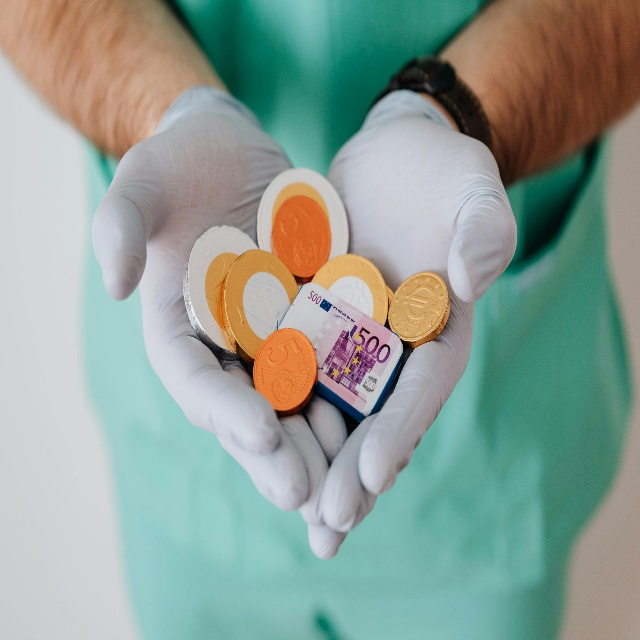Guantes: (90, 86, 348, 526), (305, 87, 518, 560)
